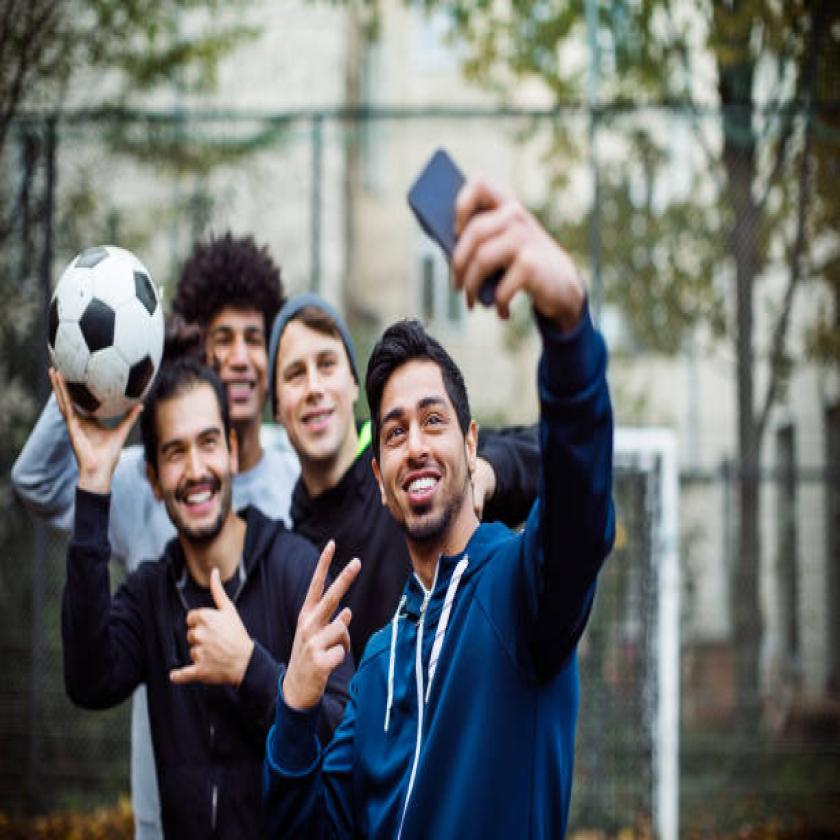Sin_casco: (369, 313, 495, 556), (144, 346, 240, 570), (174, 214, 272, 414)
